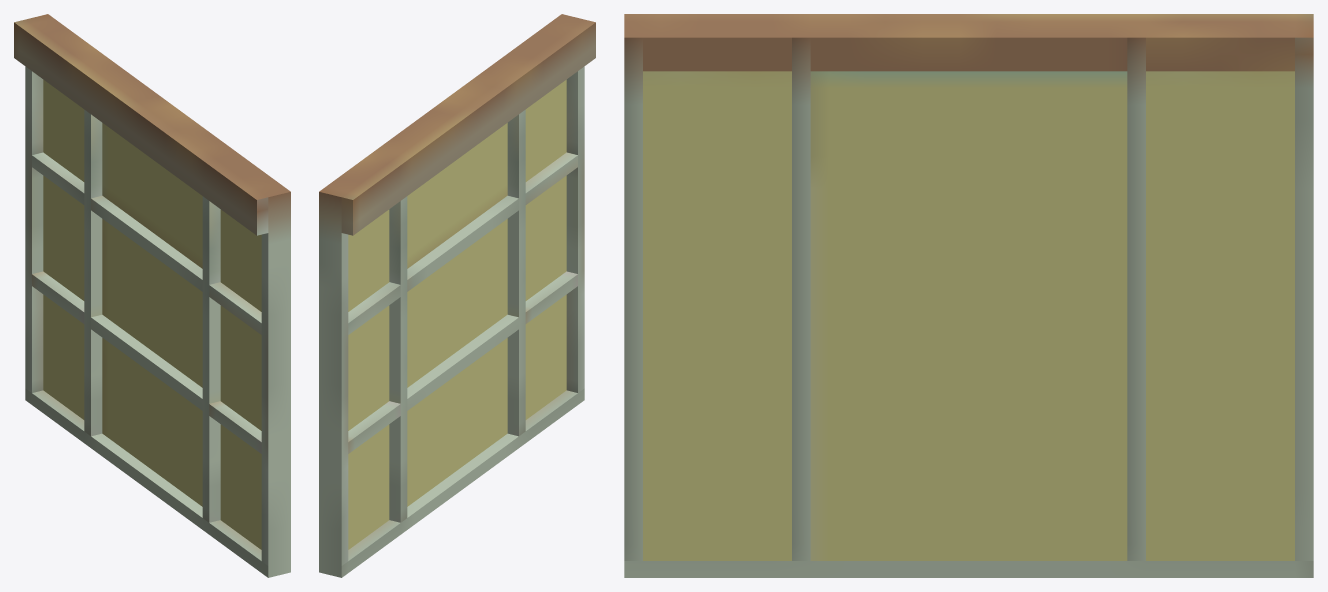
The model's file is WindowFrameLargeOutside_00.fbx.
The picture shows the model from 3 angles, left to right: view 1: azimuth 30°, elevation 25°; view 2: azimuth 150°, elevation 25°; view 3: azimuth 270°, elevation 25°; orthographic projection. The views are drawn at different scales.
Visible parts, largest first — view 1: WindowFrameLargeOutside_00; view 2: WindowFrameLargeOutside_00; view 3: WindowFrameLargeOutside_00.
Part boxes in pixels (x1,y1,x2,y2): WindowFrameLargeOutside_00: (14, 14, 290, 577); WindowFrameLargeOutside_00: (319, 14, 595, 577); WindowFrameLargeOutside_00: (624, 14, 1313, 577).
Bounding box in the file's own units: 15 × 185 × 160.
Materials: 2 (2 with a texture image).
